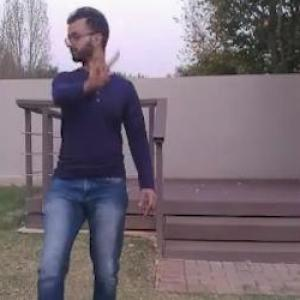takeoff-hand: (84, 49, 125, 97)
